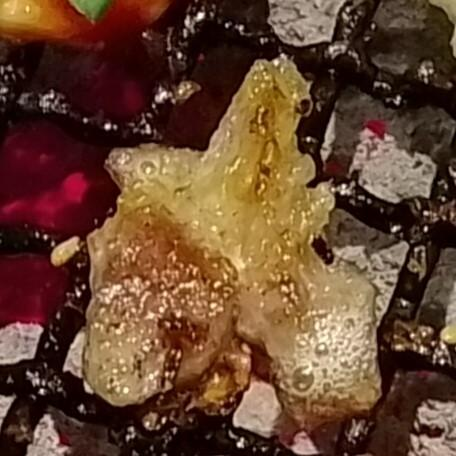Well-Cooked: (72, 58, 382, 440)
